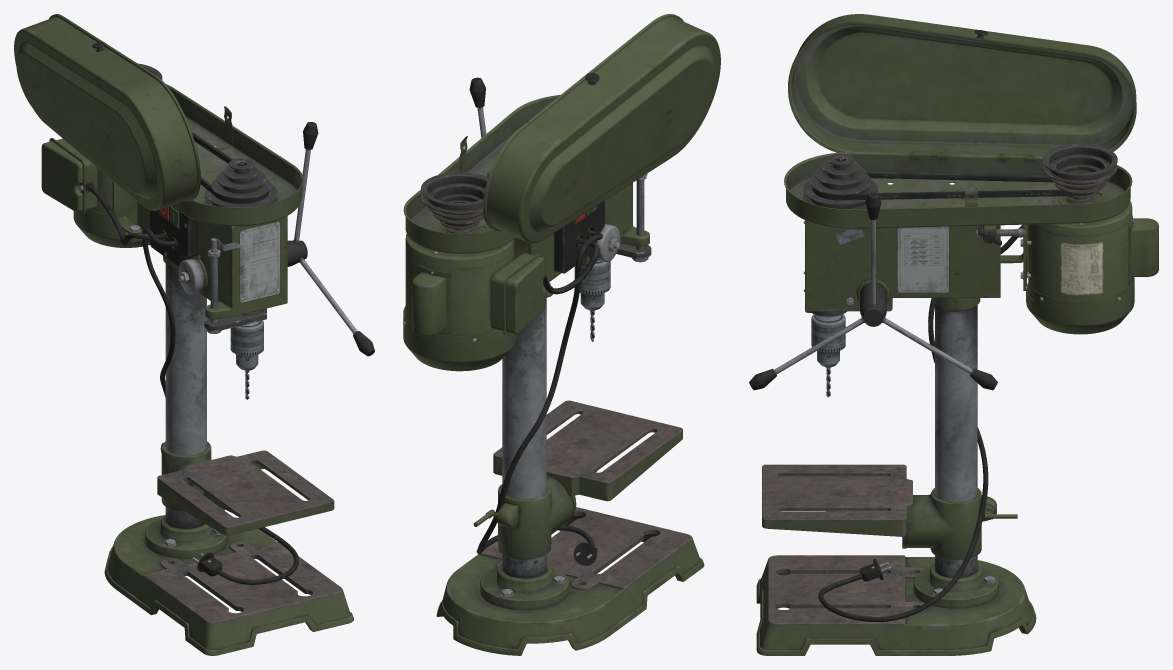
File: drill-press.glb
The picture shows the model from 3 angles, left to right: view 1: azimuth 30°, elevation 25°; view 2: azimuth 150°, elevation 25°; view 3: azimuth 270°, elevation 25°; orthographic projection. The views are drawn at different scales.
Parts seen in each view (by area): view 1: drill_press_01, drill_press_01_lid, drill_press_01_plate, drill_press_01_gear_b, drill_press_01_plug, drill_press_01_handle, drill_press_01_limiter, drill_press_01_bit, drill_press_01_belt; view 2: drill_press_01, drill_press_01_lid, drill_press_01_plate, drill_press_01_gear_a, drill_press_01_plug, drill_press_01_bit, drill_press_01_limiter, drill_press_01_handle; view 3: drill_press_01, drill_press_01_lid, drill_press_01_plate, drill_press_01_handle, drill_press_01_gear_a, drill_press_01_belt, drill_press_01_plug, drill_press_01_gear_b, drill_press_01_bit.
Part boxes in pixels (<box>): drill_press_01: <box>41,84,353,655</box>; drill_press_01_lid: <box>14,14,200,210</box>; drill_press_01_plate: <box>157,441,334,535</box>; drill_press_01_gear_b: <box>205,158,277,207</box>; drill_press_01_plug: <box>142,229,298,584</box>; drill_press_01_handle: <box>287,122,374,356</box>; drill_press_01_limiter: <box>204,238,266,333</box>; drill_press_01_bit: <box>230,320,263,399</box>; drill_press_01_belt: <box>191,132,268,203</box>; drill_press_01: <box>403,95,704,655</box>; drill_press_01_lid: <box>483,14,720,243</box>; drill_press_01_plate: <box>493,400,682,559</box>; drill_press_01_gear_a: <box>421,172,488,233</box>; drill_press_01_plug: <box>476,230,602,565</box>; drill_press_01_bit: <box>574,260,610,341</box>; drill_press_01_limiter: <box>616,173,651,262</box>; drill_press_01_handle: <box>469,77,489,174</box>; drill_press_01: <box>756,152,1158,655</box>; drill_press_01_lid: <box>788,14,1136,160</box>; drill_press_01_plate: <box>762,464,996,559</box>; drill_press_01_handle: <box>749,192,997,390</box>; drill_press_01_gear_a: <box>1043,143,1117,203</box>; drill_press_01_belt: <box>812,171,1095,200</box>; drill_press_01_plug: <box>818,298,988,621</box>; drill_press_01_gear_b: <box>803,153,877,209</box>; drill_press_01_bit: <box>811,314,845,397</box>.
Size of the model in its own units: 0.3543 by 0.9011 by 0.5988.
1 material, 1 textured.
